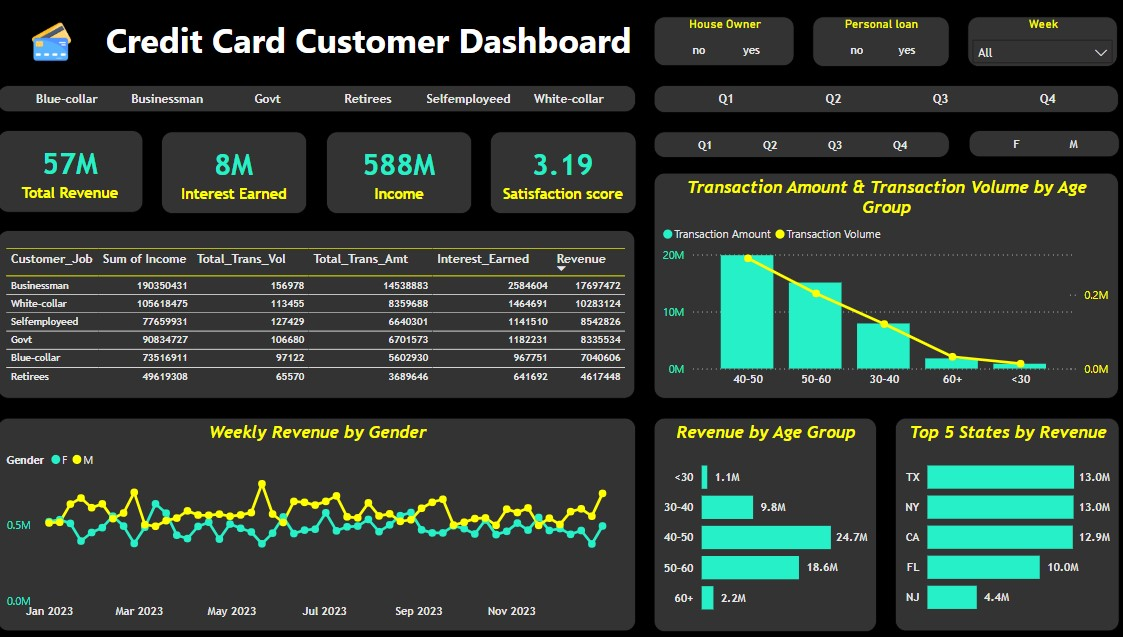

What the dashboard file says about the page in this screenshot:
{"tool":"powerbi","page":{"name":"Customer Dashboard","canvas":[1280,720],"ordinal":1},"visuals":[{"type":"textbox","box":[132.4,24.8,602.9,55.2],"z":0},{"type":"slicer","fields":{"Values":["customer.Gender"]},"box":[1089.5,101.5,164.7,30.2],"z":1000},{"type":"slicer","title":"Week","fields":{"Values":["credit_card.Week_Start_Date"]},"box":[1090,25,165,55],"z":2000},{"type":"slicer","fields":{"Values":["credit_card.Qtr"]},"box":[745.1,101.5,325.2,28.8],"z":3000},{"type":"slicer","fields":{"Values":["customer.Customer_Job"]},"box":[25,100,701.2,29.8],"z":5000},{"type":"card","fields":{"Values":["Sum(credit_card.Revenue)"]},"box":[25,150,160,90.6],"z":6000},{"type":"card","fields":{"Values":["Avg(customer.Cust_Satisfaction_Score)"]},"box":[565,150.9,160.5,90.6],"z":7000},{"type":"card","fields":{"Values":["Sum(customer.Income)"]},"box":[385,150.9,160,90],"z":8000},{"type":"card","fields":{"Values":["Sum(credit_card.Interest_Earned)"]},"box":[205,150.9,160,90.6],"z":9000},{"type":"barChart","title":"Revenue by Age Group","fields":{"Y":["Sum(credit_card.Revenue)"],"Category":["customer.AgeGroup"]},"box":[745.2,465.5,245,235],"z":10000},{"type":"tableEx","fields":{"Values":["customer.Customer_Job","Sum(customer.Income)","Sum(credit_card.Total_Trans_Vol)","Sum(credit_card.Total_Trans_Amt)","Sum(credit_card.Interest_Earned)","Sum(credit_card.Revenue)"]},"box":[25,260,700,185],"z":11000},{"type":"barChart","title":"Top 5 States by Revenue","fields":{"Y":["Sum(credit_card.Revenue)"],"Category":["customer.state_cd"]},"box":[1009.5,465.5,246.4,234.5],"z":12000},{"type":"lineStackedColumnComboChart","title":"Transaction Amount & Transaction Volume by Age Group","fields":{"Category":["customer.AgeGroup"],"Y":["Sum(credit_card.Total_Trans_Amt)"],"Y2":["Sum(credit_card.Total_Trans_Vol)"]},"box":[745.1,150.9,510.5,293.7],"z":13000},{"type":"lineChart","title":"Weekly Revenue by Gender","fields":{"Y":["Sum(credit_card.Revenue)"],"Category":["credit_card.Week_Start_Date.Variation.Date Hierarchy.Year","credit_card.Week_Start_Date.Variation.Date Hierarchy.Quarter","credit_card.Week_Start_Date.Variation.Date Hierarchy.Month","credit_card.Week_Start_Date.Variation.Date Hierarchy.Day"],"Series":["customer.Gender"]},"box":[25,465.5,701.2,234.5],"z":14000},{"type":"slicer","title":"House Owner","fields":{"Values":["customer.House_Owner"]},"box":[745.2,25,154.8,54.8],"z":15000},{"type":"slicer","title":"Personal loan","fields":{"Values":["customer.Personal_loan"]},"box":[920,25,150,55],"z":16000},{"type":"image","box":[45.5,24.8,77.3,55.2],"z":17000}]}

Visuals, with their boxes in screenshot pixels (x1, y1, x2, y2), scaled from the page's 1280x720 canvas onto the 1123x637 screenshot:
textbox: x1=116, y1=22, x2=645, y2=71
slicer - customer.Gender: x1=956, y1=90, x2=1100, y2=117
"Week" slicer: x1=956, y1=22, x2=1101, y2=71
slicer - credit_card.Qtr: x1=654, y1=90, x2=939, y2=115
slicer - customer.Customer_Job: x1=22, y1=88, x2=637, y2=115
card - Sum(credit_card.Revenue): x1=22, y1=133, x2=162, y2=213
card - Avg(customer.Cust_Satisfaction_Score): x1=496, y1=134, x2=637, y2=214
card - Sum(customer.Income): x1=338, y1=134, x2=478, y2=213
card - Sum(credit_card.Interest_Earned): x1=180, y1=134, x2=320, y2=214
"Revenue by Age Group" barChart: x1=654, y1=412, x2=869, y2=620
tableEx - customer.Customer_Job x Sum(customer.Income): x1=22, y1=230, x2=636, y2=394
"Top 5 States by Revenue" barChart: x1=886, y1=412, x2=1102, y2=619
"Transaction Amount & Transaction Volume by Age Group" lineStackedColumnComboChart: x1=654, y1=134, x2=1102, y2=393
"Weekly Revenue by Gender" lineChart: x1=22, y1=412, x2=637, y2=619
"House Owner" slicer: x1=654, y1=22, x2=790, y2=71
"Personal loan" slicer: x1=807, y1=22, x2=939, y2=71
image: x1=40, y1=22, x2=108, y2=71
